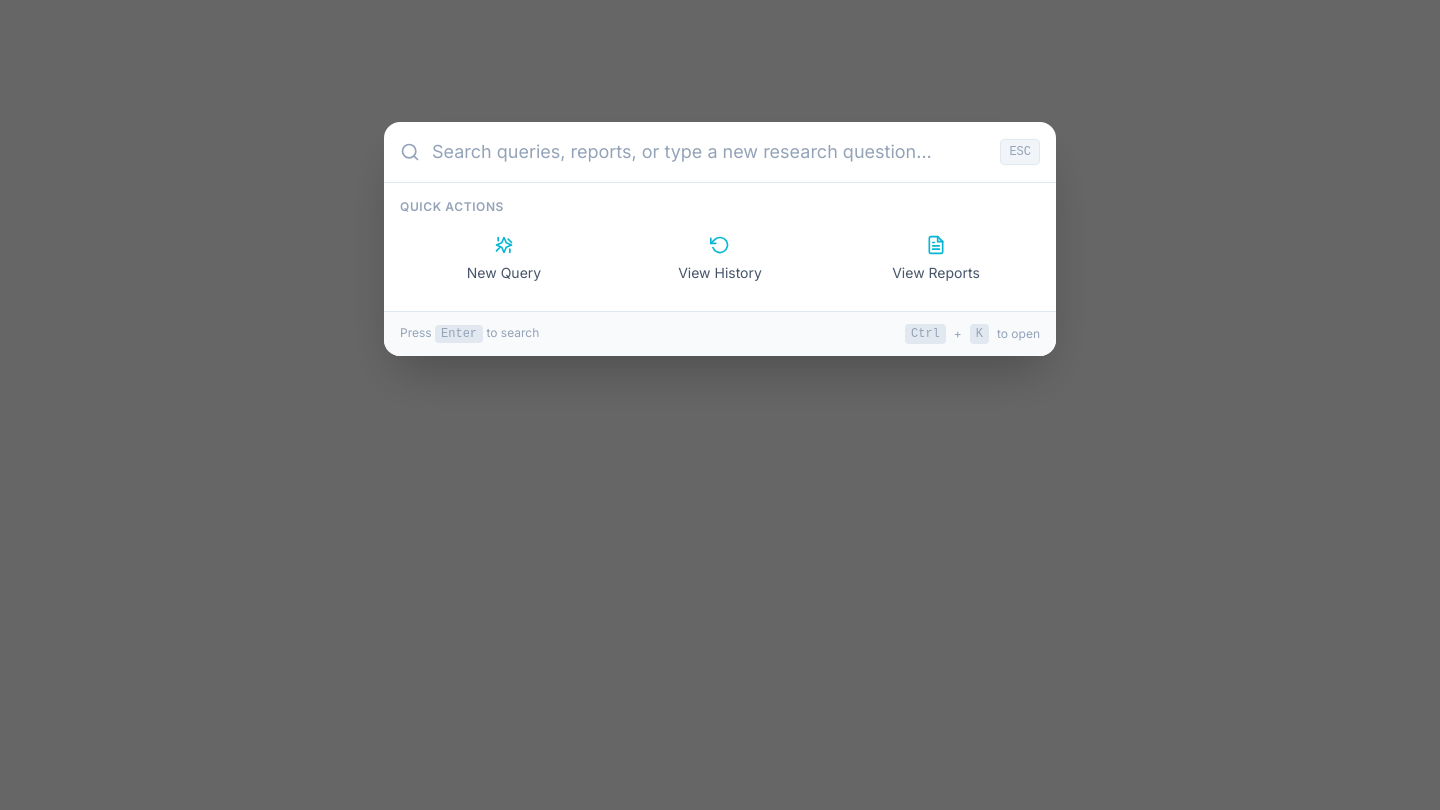
Test: SearchModal › submits a query, updates storage, and clears the input
In the field with placeholder "Search queries, reports, or type a new research question...": (710, 152) [432,138,988,166], type "diabetes market"
Then press Enter
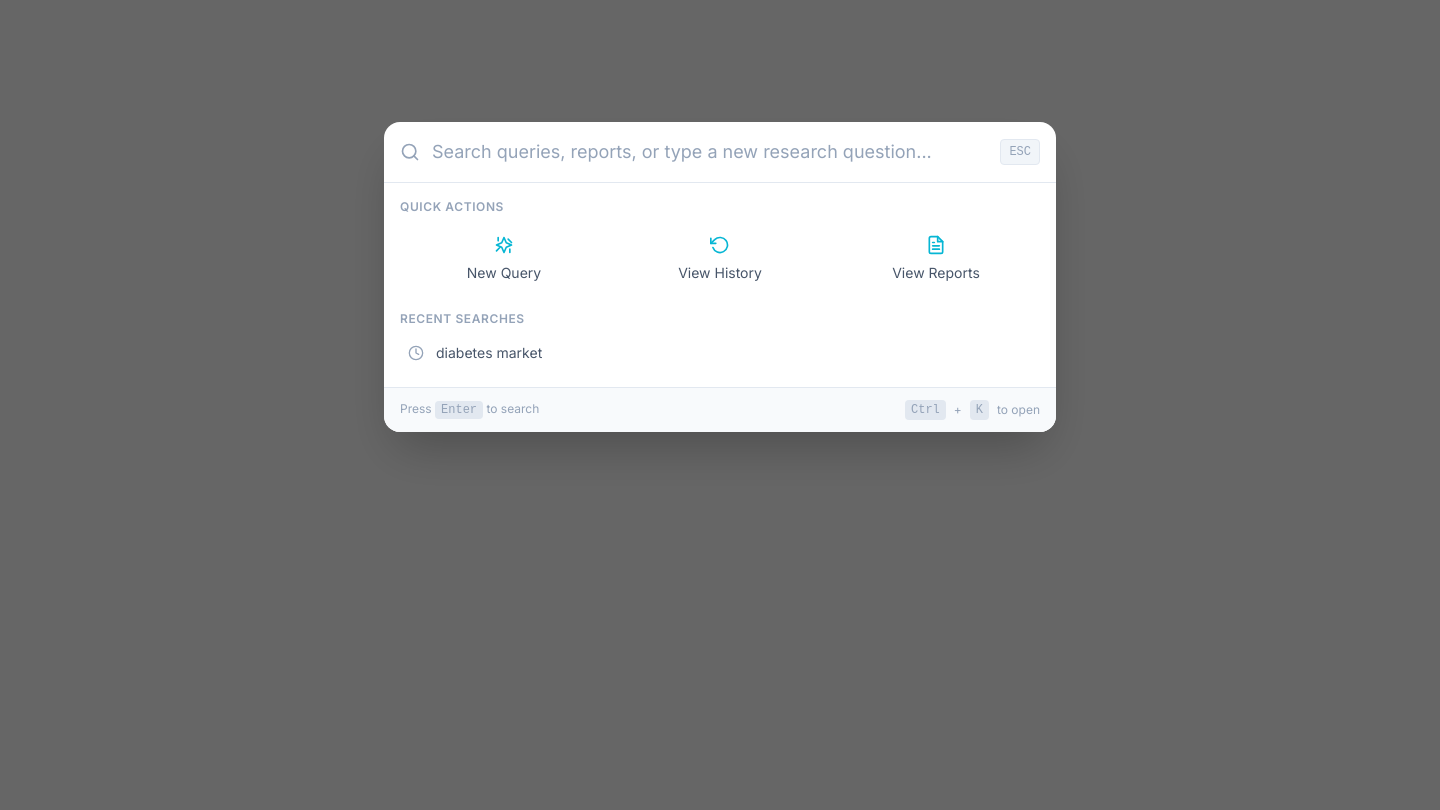
Expected: the text "diabetes market" is shown, [436,342,542,362]
